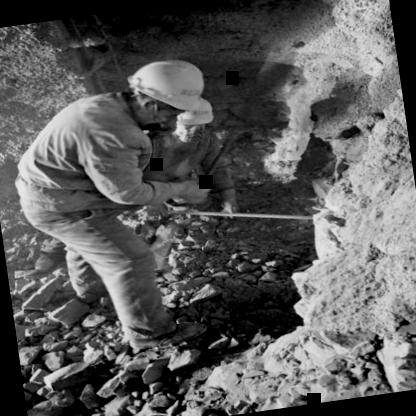helmet: (114, 49, 213, 136), (166, 95, 222, 144)
